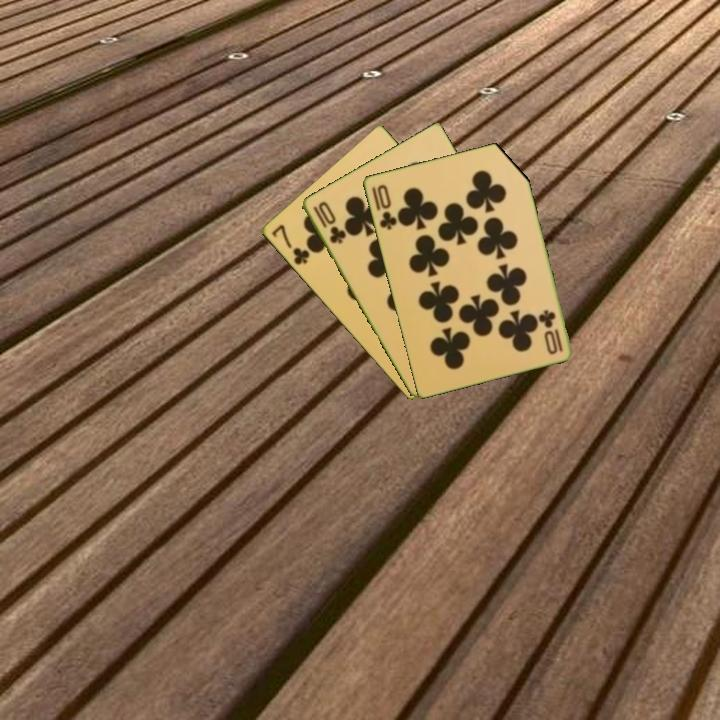10c: (309, 198, 348, 247), (368, 181, 399, 233), (536, 306, 565, 357)
7c: (268, 221, 312, 268)
